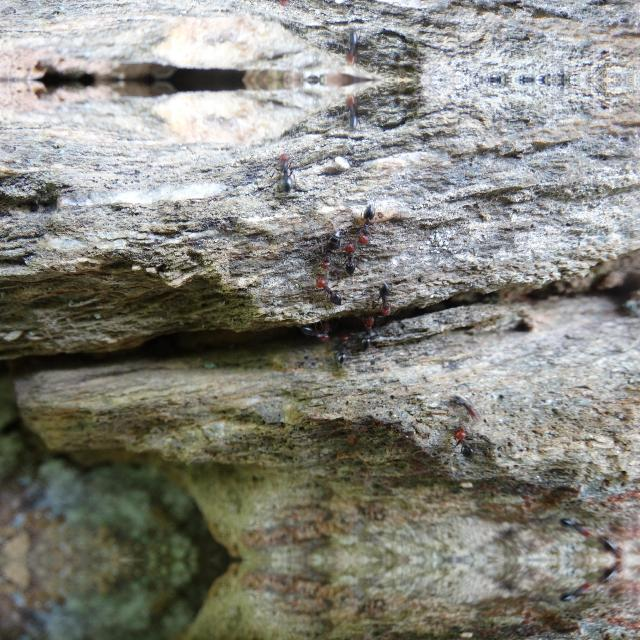Crematogaster: (353, 204, 381, 246), (270, 150, 298, 192), (317, 228, 341, 274), (316, 274, 346, 308), (337, 92, 367, 126), (337, 34, 367, 68), (339, 238, 359, 280), (449, 432, 475, 461), (376, 280, 396, 316), (359, 312, 379, 348), (334, 332, 350, 368), (304, 326, 328, 344), (269, 0, 298, 10)
